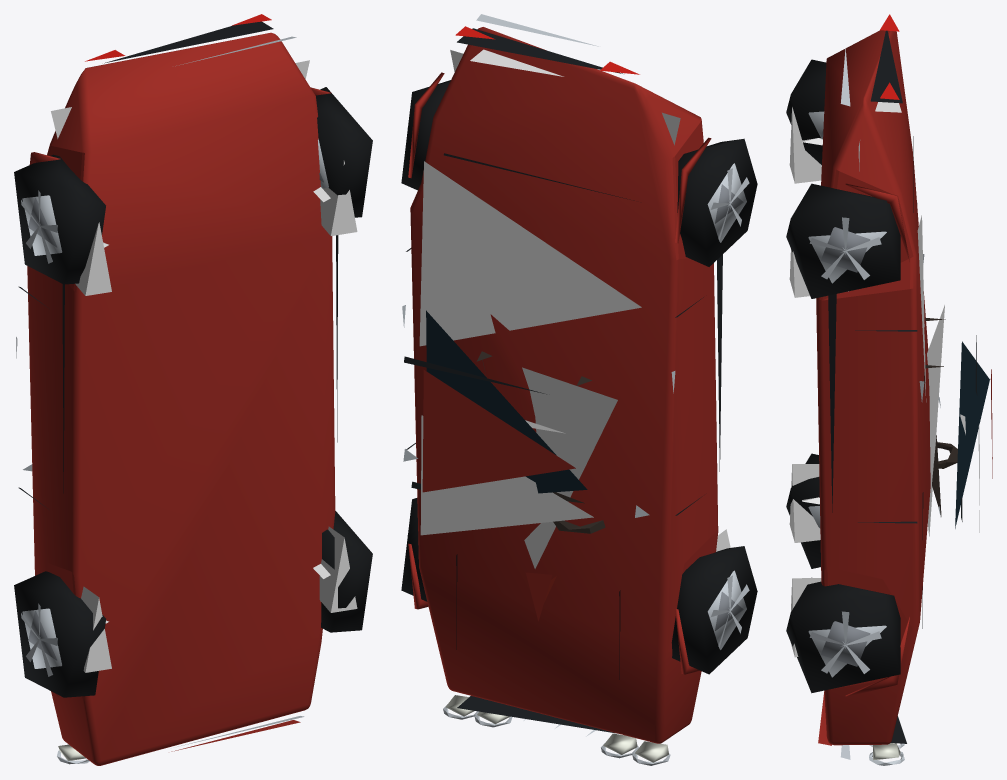
File: HeroCrownfire_LOD2.fbx
3 views of the same model, side by side, from view 1: azimuth 30°, elevation 25°; view 2: azimuth 150°, elevation 25°; view 3: azimuth 270°, elevation 25° (orthographic). The views are drawn at different scales.
Visible parts, largest first — view 1: Crownfire_BODY_SHELL, Crownfire_TIRE.001, Crownfire_TIRE, Crownfire_TIRE.003, Crownfire_TIRE.002, hero_1967_Wheel.002, hero_1967_Wheel.001, hero_1967_Wheel.003, Crownfire_REAR_LAMP_PANEL, hero_1967_Wheel, Crownfire_RIM.001, Crownfire_RIM; view 2: Crownfire_BODY_SHELL, hero_1967_Hood, Crownfire_ROOF_PANEL, hero_1967_Windshield, hero_1967_Cabin, Crownfire_TIRE, Crownfire_TIRE.001, Crownfire_GLASSHOUSE, Crownfire_TIRE.003, Crownfire_REAR_LAMP_PANEL, Crownfire_FRONT_GRILLE, Crownfire_TIRE.002 (+7 smaller); view 3: Crownfire_BODY_SHELL, Crownfire_TIRE.003, Crownfire_TIRE.002, Crownfire_GLASSHOUSE, Crownfire_TIRE.001, hero_1967_Cabin, hero_1967_Wheel, Crownfire_TIRE, hero_1967_Wheel.001, Crownfire_BRAKE.003, Crownfire_BRAKE.002, Crownfire_REAR_LAMP_PANEL (+10 smaller).
Boxes of the visible parts, x1,y1,x2,y2 form: Crownfire_BODY_SHELL: [27, 32, 335, 765]; Crownfire_TIRE.001: [14, 154, 105, 284]; Crownfire_TIRE: [14, 571, 105, 697]; Crownfire_TIRE.003: [316, 87, 372, 217]; Crownfire_TIRE.002: [321, 511, 372, 632]; hero_1967_Wheel.002: [319, 526, 357, 612]; hero_1967_Wheel.001: [75, 222, 111, 295]; hero_1967_Wheel.003: [320, 160, 357, 235]; Crownfire_REAR_LAMP_PANEL: [104, 21, 273, 63]; hero_1967_Wheel: [81, 586, 111, 672]; Crownfire_RIM.001: [22, 195, 62, 255]; Crownfire_RIM: [22, 608, 61, 668]; Crownfire_BODY_SHELL: [410, 27, 718, 743]; hero_1967_Hood: [419, 161, 641, 346]; Crownfire_ROOF_PANEL: [422, 370, 575, 492]; hero_1967_Windshield: [420, 415, 593, 535]; hero_1967_Cabin: [522, 367, 617, 568]; Crownfire_TIRE: [671, 546, 757, 674]; Crownfire_TIRE.001: [677, 138, 757, 266]; Crownfire_GLASSHOUSE: [426, 310, 587, 493]; Crownfire_TIRE.003: [401, 80, 450, 190]; Crownfire_REAR_LAMP_PANEL: [457, 28, 622, 73]; Crownfire_FRONT_GRILLE: [457, 696, 617, 733]; Crownfire_TIRE.002: [401, 498, 427, 601]; Crownfire_BODY_SHELL: [816, 30, 930, 745]; Crownfire_TIRE.003: [786, 183, 900, 298]; Crownfire_TIRE.002: [786, 577, 900, 693]; Crownfire_GLASSHOUSE: [955, 341, 989, 528]; Crownfire_TIRE.001: [786, 59, 826, 164]; hero_1967_Cabin: [927, 305, 944, 536]; hero_1967_Wheel: [789, 464, 820, 542]; Crownfire_TIRE: [786, 453, 820, 568]; hero_1967_Wheel.001: [789, 107, 821, 183]; Crownfire_BRAKE.003: [820, 227, 870, 272]; Crownfire_BRAKE.002: [820, 621, 870, 666]; Crownfire_REAR_LAMP_PANEL: [870, 30, 902, 103].
Size of the model in its own units: 232 by 496 by 141.
